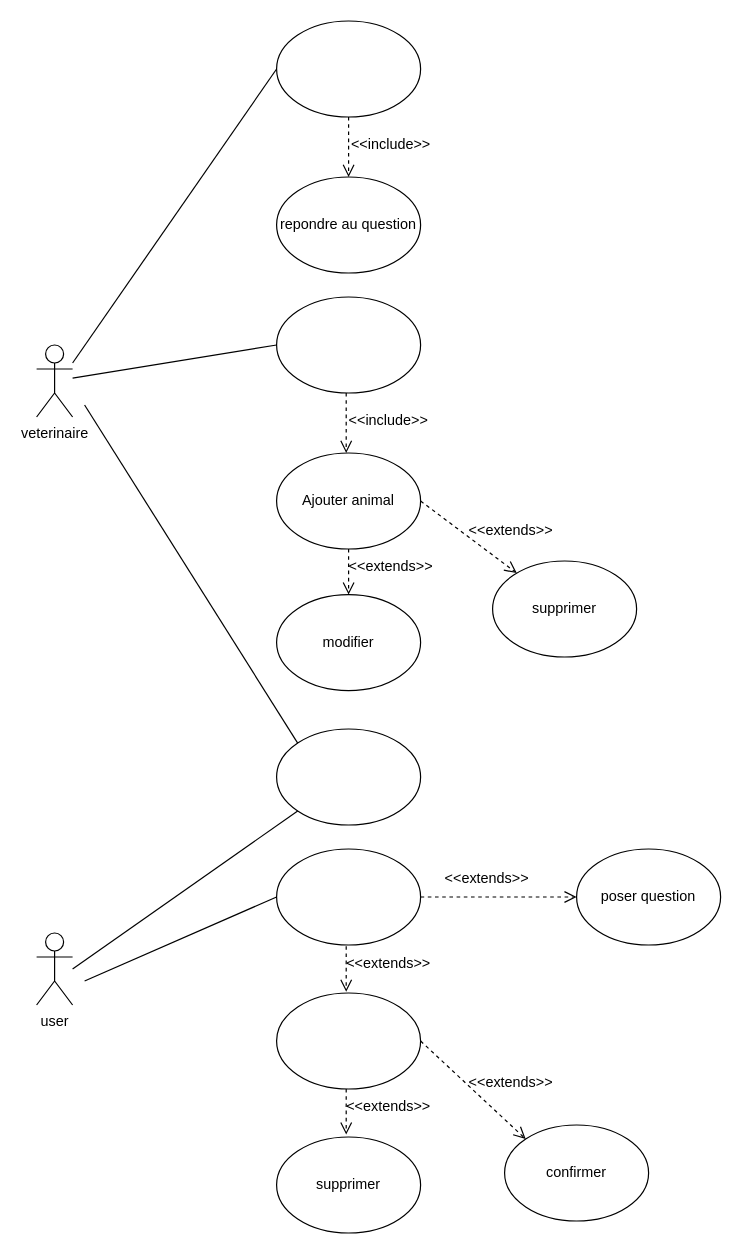
This 742x1254 diagram has some shape labels left out. Each missing label, with the centre of its shape:
"ajouter panier" belongs at pixel 348 1040.
"consulter liste des animaux" belongs at pixel 348 344.
"envoyer message au chatbot" belongs at pixel 348 776.
"voir liste des animaux" belongs at pixel 348 896.
"voir liste des user" belongs at pixel 348 68.
